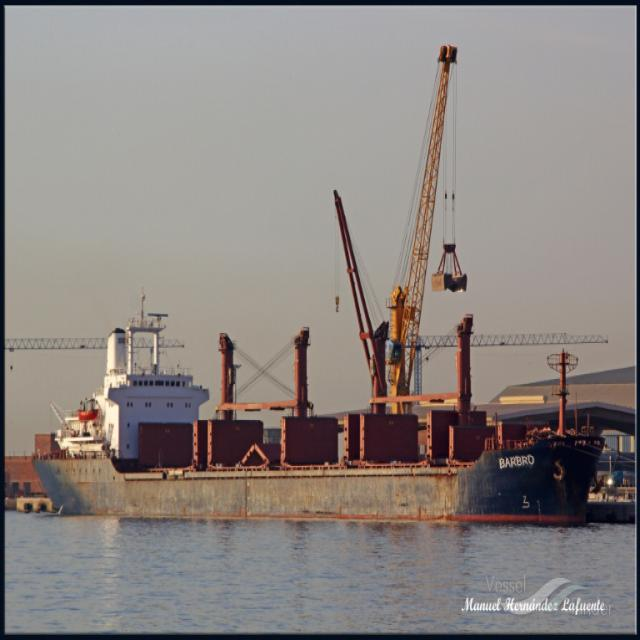OCR: (494, 454, 539, 472)
